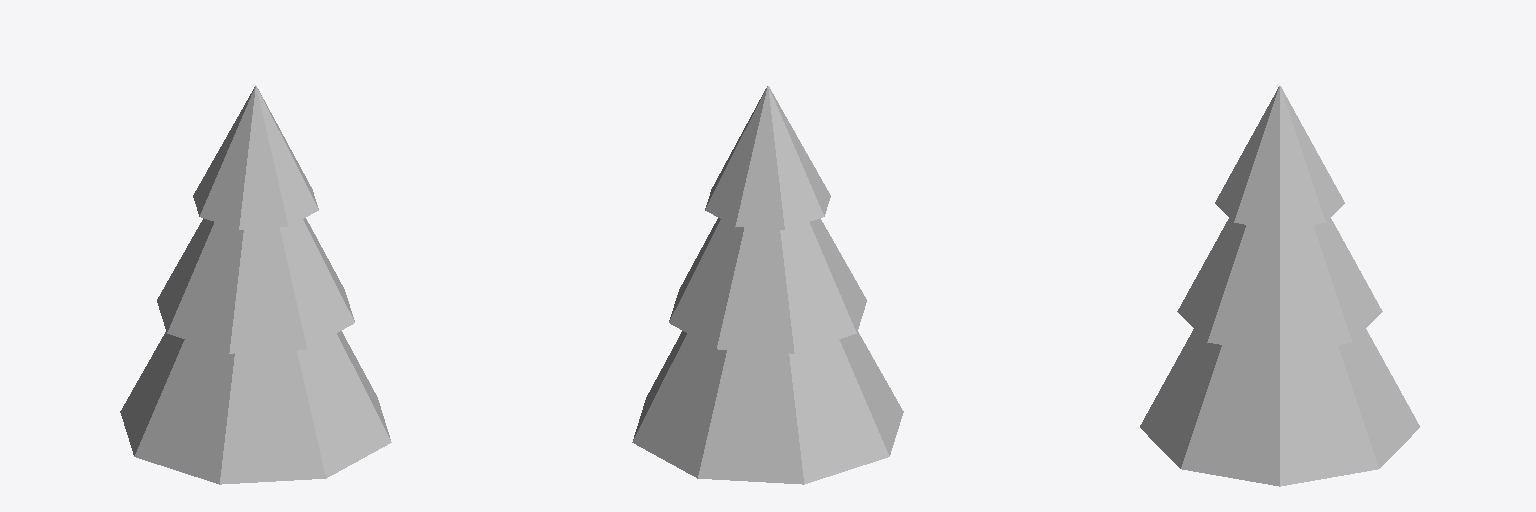
The model's file is body.obj.
3 renders of one model, left to right at view 1: azimuth 30°, elevation 25°; view 2: azimuth 150°, elevation 25°; view 3: azimuth 270°, elevation 25°, orthographic.
Parts seen in each view (by area): view 1: Cone, Cone.001, Cone.002; view 2: Cone, Cone.001, Cone.002; view 3: Cone, Cone.001, Cone.002.
Part boxes in pixels (left/top/right/bottom): Cone: left=120, top=331, right=391, bottom=484; Cone.001: left=157, top=218, right=354, bottom=353; Cone.002: left=193, top=86, right=318, bottom=229; Cone: left=632, top=331, right=903, bottom=484; Cone.001: left=669, top=218, right=866, bottom=353; Cone.002: left=705, top=86, right=830, bottom=229; Cone: left=1140, top=329, right=1419, bottom=486; Cone.001: left=1177, top=218, right=1382, bottom=354; Cone.002: left=1215, top=86, right=1344, bottom=230.
Bounding box in the file's own units: 2.27 × 3.06 × 2.27.